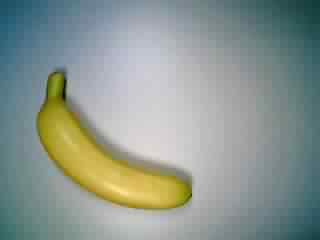banana: (36, 69, 197, 215)
